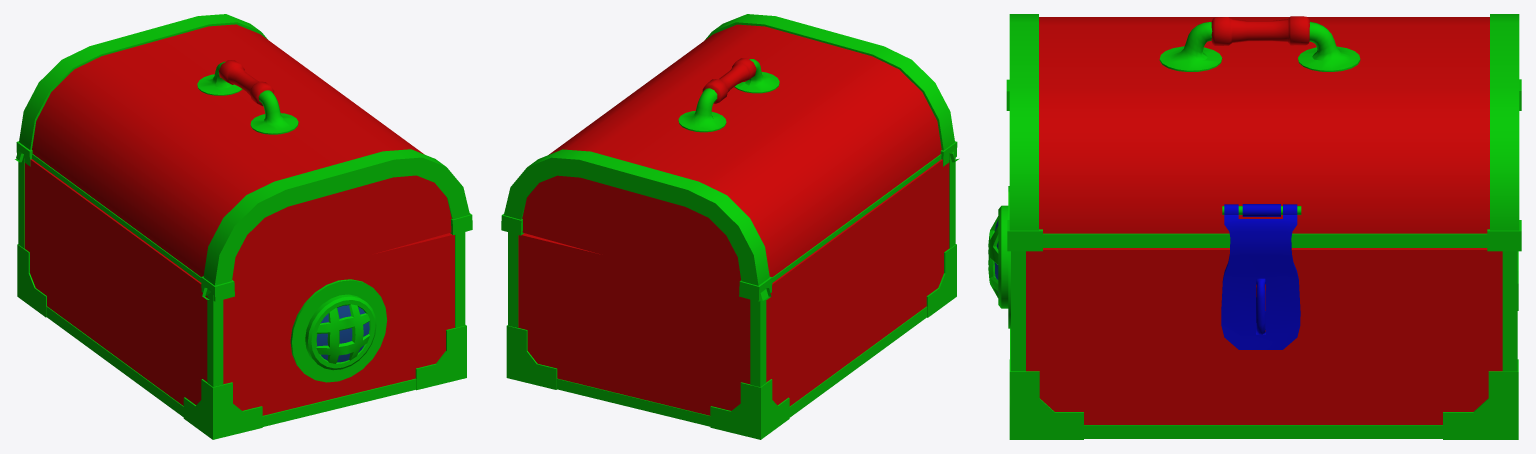
The model's file is Steampunk_box2_prb.fbx.
The picture shows the model from 3 angles, left to right: view 1: azimuth 30°, elevation 25°; view 2: azimuth 150°, elevation 25°; view 3: azimuth 270°, elevation 25°; orthographic projection. The views are drawn at different scales.
Parts seen in each view (by area): view 1: Steampunk box Open.002, Steampunk box Open; view 2: Steampunk box Open.002, Steampunk box Open; view 3: Steampunk box Open.002, Steampunk box Open.
Part boxes in pixels (x1,y1,x2,y2): Steampunk box Open.002: (15,14,472,301); Steampunk box Open: (17,157,466,439); Steampunk box Open.002: (501,14,959,301); Steampunk box Open: (506,149,956,439); Steampunk box Open.002: (1006,14,1521,349); Steampunk box Open: (988,186,1518,439).
Bounding box in the file's own units: 18.92 × 17.09 × 23.98.
